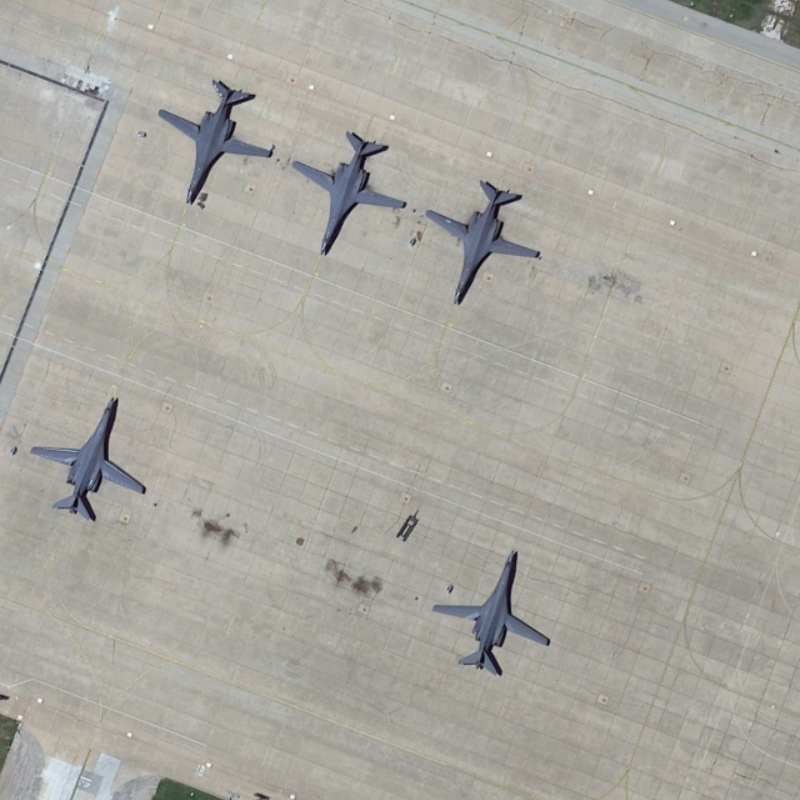A10: (148, 70, 280, 208), (424, 544, 555, 680), (287, 123, 411, 261), (424, 167, 545, 308), (27, 390, 151, 523)
